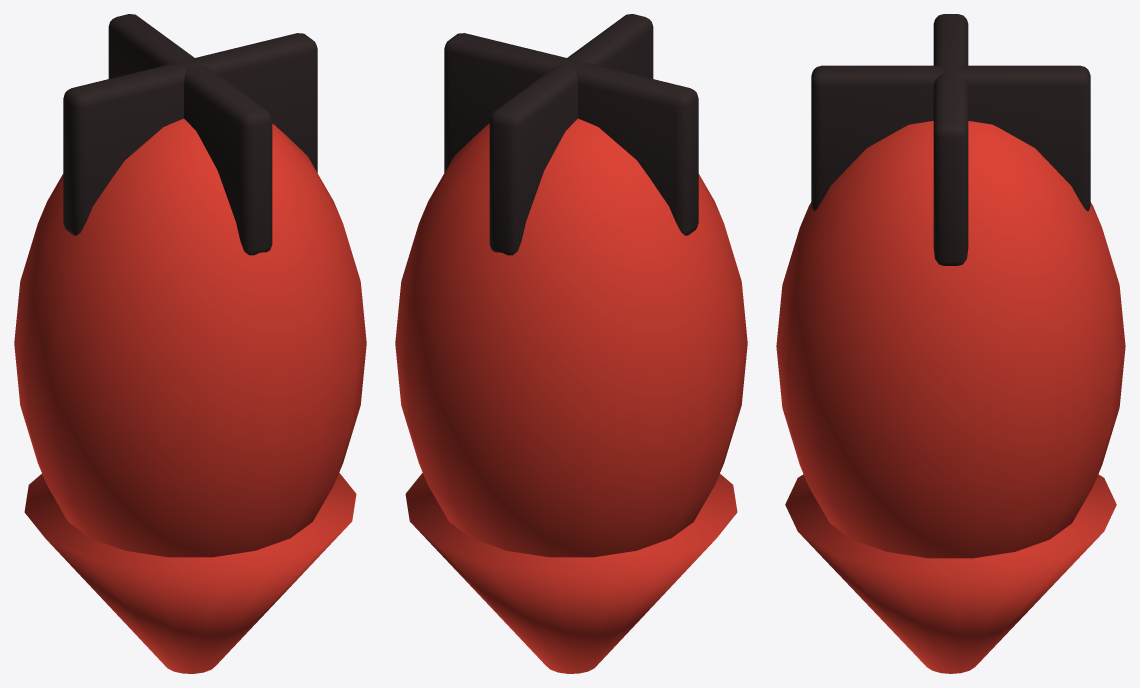
Rendered from bomb.glb.
The picture shows the model from 3 angles, left to right: view 1: azimuth 30°, elevation 25°; view 2: azimuth 150°, elevation 25°; view 3: azimuth 270°, elevation 25°; orthographic projection.
Parts seen in each view (by area): view 1: Bomb; view 2: Bomb; view 3: Bomb.
Part boxes in pixels (box(x1,y1,x2,y2)): Bomb: box(14, 14, 366, 673); Bomb: box(395, 14, 747, 673); Bomb: box(776, 14, 1125, 673).
Bounding box in the file's own units: 0.3939 × 0.75 × 0.4.
